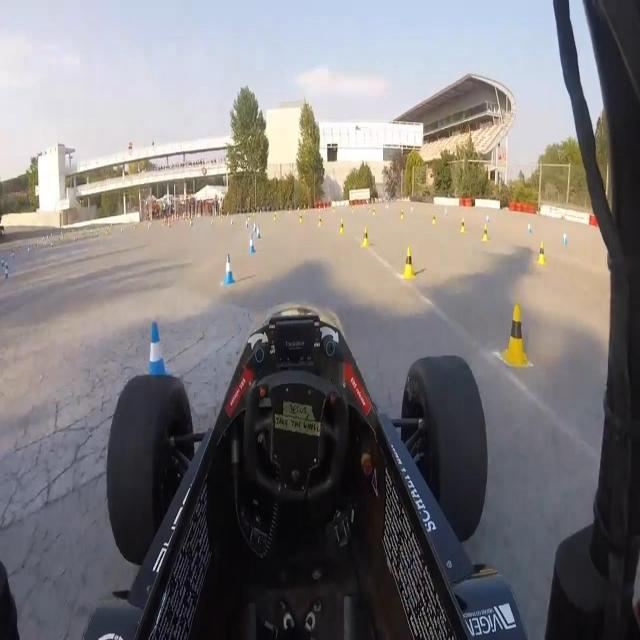blue_cone: (143, 316, 175, 375), (220, 252, 237, 292), (247, 234, 256, 253), (526, 220, 532, 236), (562, 231, 568, 247), (256, 227, 262, 239), (252, 221, 256, 233)
yellow_cone: (501, 302, 530, 372), (400, 242, 419, 282), (536, 240, 548, 267), (359, 225, 371, 248), (481, 224, 490, 244), (337, 218, 346, 235), (459, 217, 466, 234), (400, 208, 406, 221), (317, 216, 324, 227), (432, 212, 437, 226), (299, 214, 304, 224), (372, 207, 376, 216), (274, 214, 277, 222)
